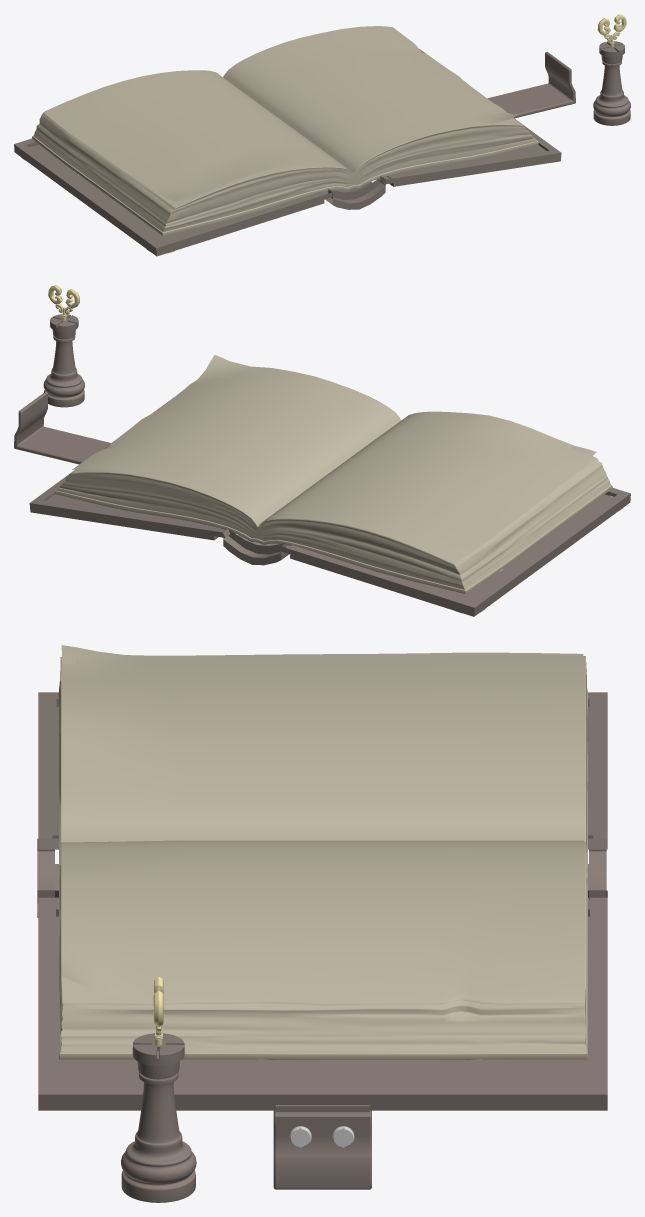
File: selectBook.fbx
The picture shows the model from 3 angles, top to bottom: view 1: azimuth 30°, elevation 25°; view 2: azimuth 150°, elevation 25°; view 3: azimuth 270°, elevation 25°; orthographic projection. The views are drawn at different scales.
Parts seen in each view (by area): view 1: page2, page1, pageleft, fengmian, pageright, dimian, pCube2, yinzhang, shubei, yinzhangbing; view 2: page2, page1, pageleft, fengmian, pageright, dimian, pCube2, yinzhang, shubei, yinzhangbing; view 3: page1, page2, dimian, pageright, yinzhang, pCube2, fengmian, shubei, pageleft.
Boxes of the visible parts, <box> form: page2: <box>223,26,522,173</box>; page1: <box>45,70,352,201</box>; pageleft: <box>32,112,353,235</box>; fengmian: <box>14,138,334,256</box>; pageright: <box>353,48,538,188</box>; dimian: <box>379,49,561,186</box>; pCube2: <box>487,51,575,118</box>; yinzhang: <box>593,41,630,125</box>; shubei: <box>325,176,385,209</box>; yinzhangbing: <box>597,14,626,47</box>; page2: <box>72,355,400,525</box>; page1: <box>259,411,596,561</box>; pageleft: <box>257,456,612,593</box>; fengmian: <box>279,488,630,616</box>; pageright: <box>54,387,400,542</box>; dimian: <box>29,405,229,540</box>; pCube2: <box>14,392,110,464</box>; yinzhang: <box>43,314,84,407</box>; shubei: <box>223,529,288,565</box>; yinzhangbing: <box>48,285,79,320</box>; page1: <box>61,645,584,842</box>; page2: <box>61,840,584,1000</box>; dimian: <box>38,890,607,1110</box>; pageright: <box>59,842,587,1059</box>; yinzhang: <box>121,1033,196,1202</box>; pCube2: <box>273,1105,371,1189</box>; fengmian: <box>38,692,607,849</box>; shubei: <box>37,838,606,917</box>; pageleft: <box>58,656,587,873</box>.
Bounding box in the file's own units: 35.4 × 7.75 × 17.4.
